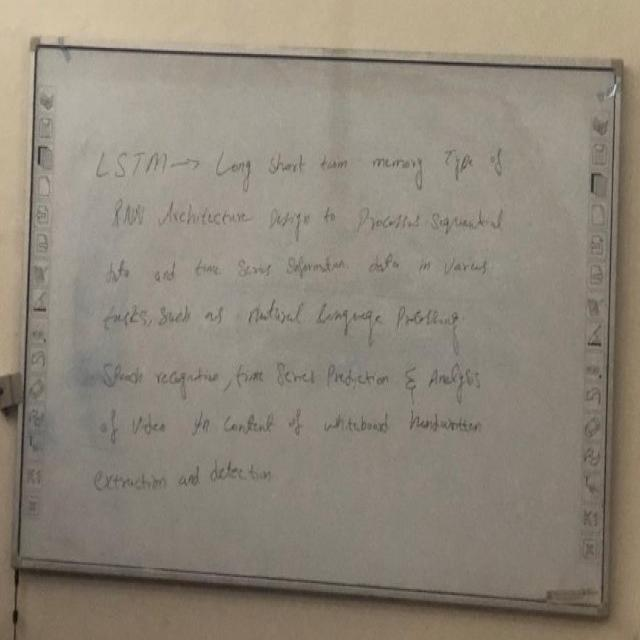White-board: (15, 43, 624, 621)
